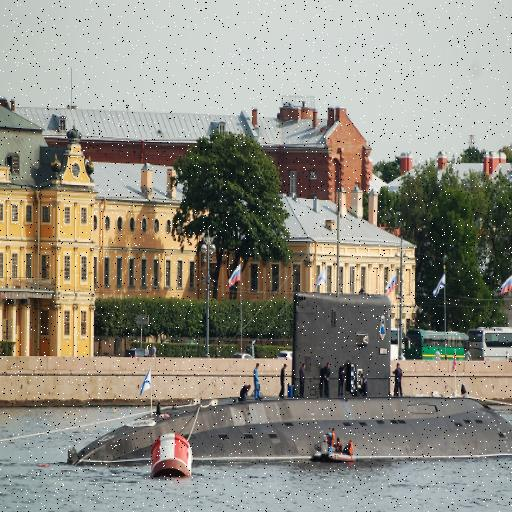submarine: (70, 269, 512, 469)
